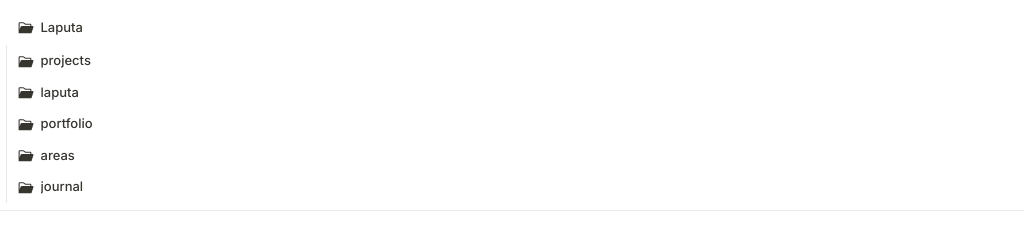
Test case: FolderTree › keeps destructive folder actions off the vault root row and menu
This screenshot has width=1024, height=228.
Right-click the button "Laputa" at [62, 27], box [6, 12, 1018, 44]
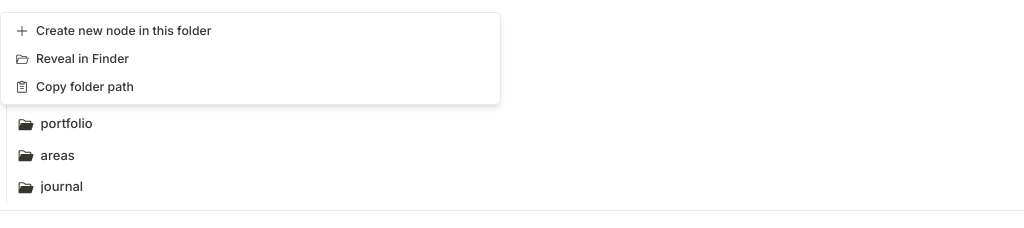
Expected: the button with test id "reveal-folder-menu-item" is shown, [4, 44, 497, 72]
Expected: the button with test id "copy-folder-path-menu-item" is shown, [4, 72, 497, 100]
